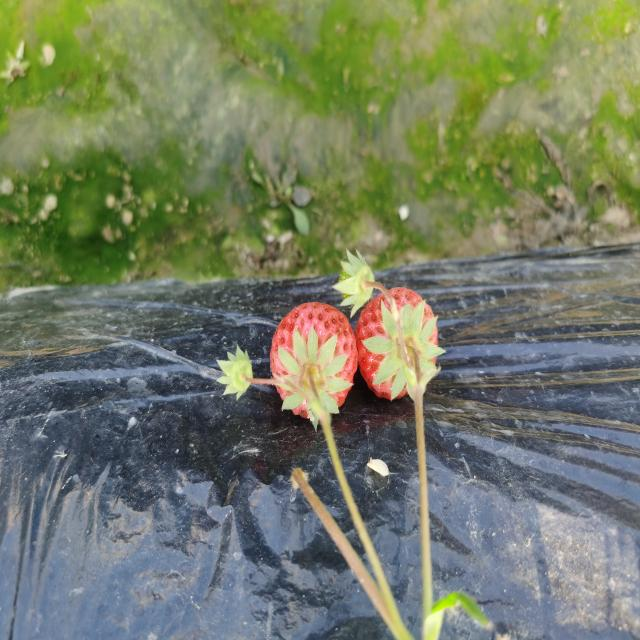stem: (406, 344, 423, 398), (308, 372, 320, 405)
strawberry: (269, 303, 357, 420), (357, 286, 437, 399)
